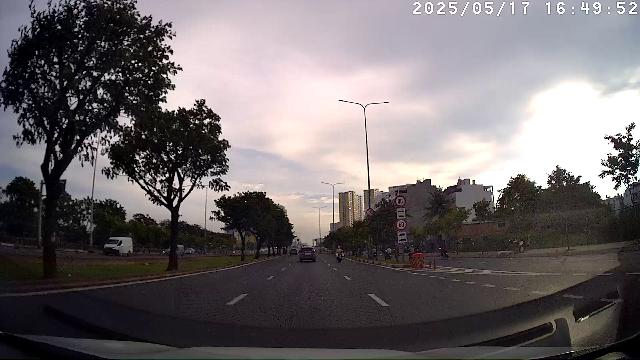127-toc-do-toi-da-60: (395, 219, 407, 231)
127-toc-do-toi-da-80: (394, 195, 406, 207)
